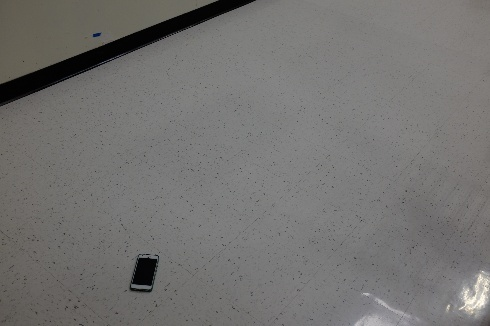phone: (122, 257, 172, 289)
